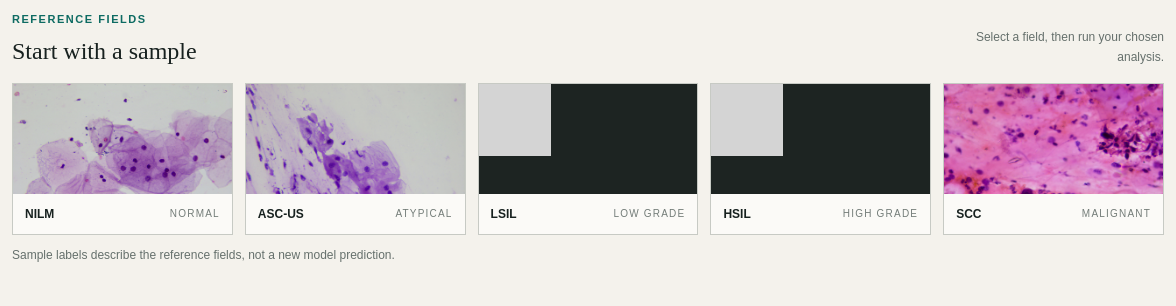
Test: Reference samples › shows a recoverable loading error
Step 1. Click the button with aria-label "Select NILM sample" → (122, 159), box [12, 83, 233, 235]
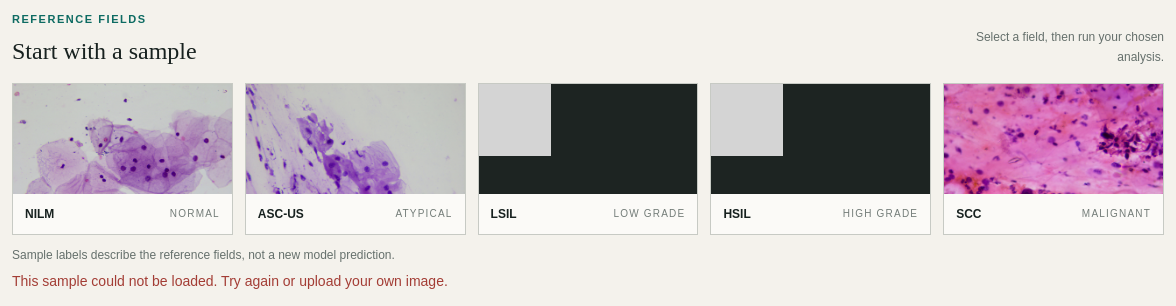
Now the message "This sample could not be loaded. Try again or upload your own image." is shown, box [12, 273, 448, 289]
